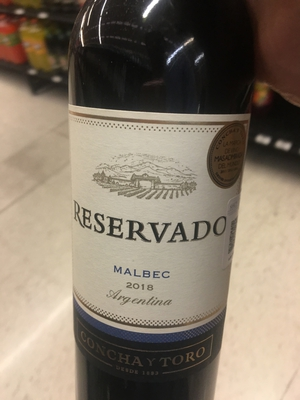reservado malbec: (66, 2, 236, 393)
